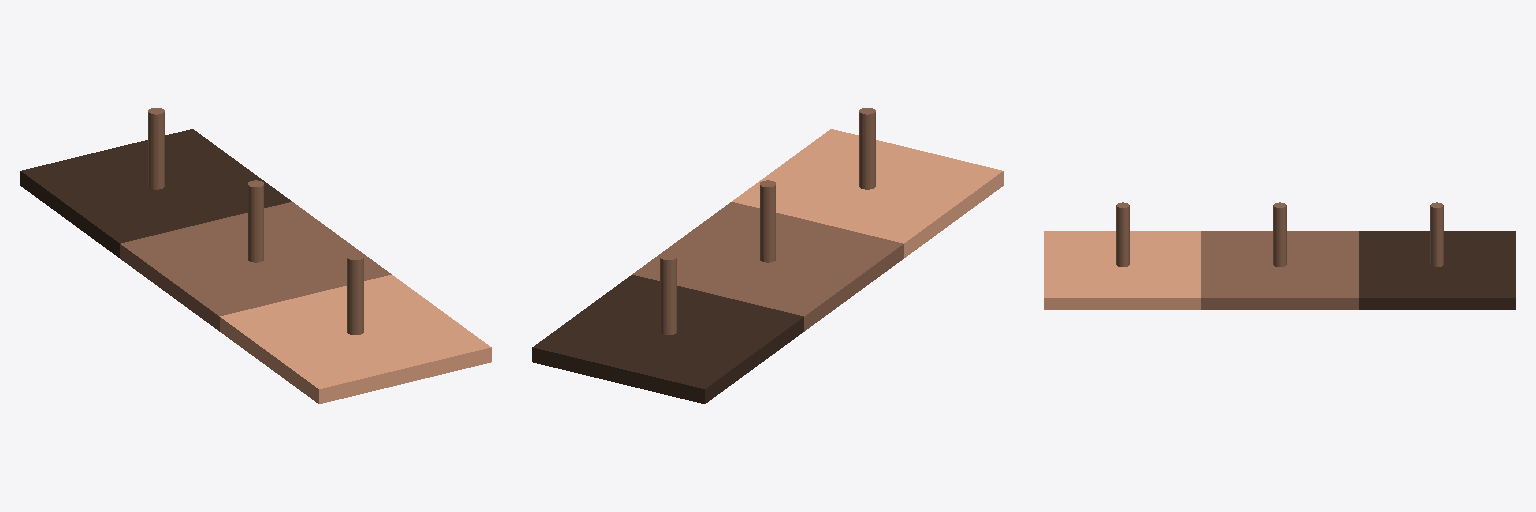
URDF robot description (stand.urdf):
<?xml version="0.0" ?>
<robot name="stand.urdf">
  <link name="baseLink">
    <contact>
      <lateral_friction value="0.5"/>
      <rolling_friction value="0.0001"/>
      <inertia_scaling value="3.0"/>
    </contact>
    <inertial>
      <origin rpy="0 0 0" xyz="0 0 0"/>
       <mass value=".1"/>
       <inertia ixx="1" ixy="0" ixz="0" iyy="1" iyz="0" izz="1"/>
    </inertial>

    <visual>
      <origin rpy="0 0 0" xyz="0 0 0.03"/>
      <geometry>
        <cylinder radius=".005" length="0.05"/>
      </geometry>
      <material name="brown">
        <color rgba="0.61176471, 0.45882353, 0.37254902 1"/>
      </material>
    </visual>
    <collision>
      <origin rpy="0 0 0" xyz="0 0 0.03"/>
      <geometry>
	 	    <cylinder radius=".005" length="0.05"/>
      </geometry>
    </collision>

    <visual>
      <origin rpy="0 0 0" xyz="0 0.12 0.03"/>
      <geometry>
        <cylinder radius=".005" length="0.05"/>
      </geometry>
      <material name="brown">
        <color rgba="0.61176471, 0.45882353, 0.37254902 1"/>
      </material>
    </visual>
    <collision>
      <origin rpy="0 0 0" xyz="0 0.12 0.03"/>
      <geometry>
        <cylinder radius=".005" length="0.05"/>
      </geometry>
    </collision>

    <visual>
      <origin rpy="0 0 0" xyz="0 -0.12 0.03"/>
      <geometry>
        <cylinder radius=".005" length="0.05"/>
      </geometry>
      <material name="brown">
        <color rgba="0.61176471 0.45882353 0.37254902 1"/>
      </material>
    </visual>
    <collision>
      <origin rpy="0 0 0" xyz="0 -0.12 0.03"/>
      <geometry>
        <cylinder radius=".005" length="0.05"/>
      </geometry>
    </collision>
    

    <visual>
      <origin rpy="0 0 0" xyz="0 0 0"/>
      <geometry>
        <box size=".12 .12 .01"/>
      </geometry>
      <material name="brown">
        <color rgba="0.61176471 0.45882353 0.37254902 1"/>
      </material>
    </visual>
    <collision>
      <origin rpy="0 0 0" xyz="0 0 0"/>
      <geometry>
        <box size=".12 .12 .01"/>
      </geometry>
    </collision>


  </link>

  <link name="base1">
    <inertial>
      <origin rpy="0 0 0" xyz="0 0 0"/>
       <mass value=".1"/>
       <inertia ixx="1" ixy="0" ixz="0" iyy="1" iyz="0" izz="1"/>
    </inertial>
    <visual>
      <origin rpy="0 0 0" xyz="0 -0.12 0"/>
      <geometry>
        <box size=".12 .12 .01"/>
      </geometry>
      <material name="lightbrown">
        <color rgba="0.91764706 0.68823529 0.55882353 1"/>
      </material>
    </visual>
    <collision>
      <origin rpy="0 0 0" xyz="0 -0.12 0"/>
      <geometry>
        <box size=".12 .12 .01"/>
      </geometry>
    </collision>
  </link>
  <joint name="baseLink-base1" type="fixed">
    <origin xyz="0 0 0" rpy="0 0 0"/>
    <parent link="baseLink"/>
    <child link="base1"/>
  </joint>

  <link name="base2">
    <inertial>
      <origin rpy="0 0 0" xyz="0 0 0"/>
       <mass value=".1"/>
       <inertia ixx="1" ixy="0" ixz="0" iyy="1" iyz="0" izz="1"/>
    </inertial>
    <visual>
      <origin rpy="0 0 0" xyz="0 0.12 0"/>
      <geometry>
        <box size=".12 .12 .01"/>
      </geometry>
      <material name="darkbrown">
        <color rgba="0.30588235 0.22941176 0.18627451 1"/>
      </material>
    </visual>
    <collision>
      <origin rpy="0 0 0" xyz="0 0.12 0"/>
      <geometry>
        <box size=".12 .12 .01"/>
      </geometry>
    </collision>
  </link>
  <joint name="baseLink-base2" type="fixed">
    <origin xyz="0 0 0" rpy="0 0 0"/>
    <parent link="baseLink"/>
    <child link="base2"/>
  </joint>

</robot>

--- What the picture shows (computed from the rendered views, not written in the file) ---
Views: 3 orthographic renders of the robot side by side, from view 1: azimuth 30°, elevation 25°; view 2: azimuth 150°, elevation 25°; view 3: azimuth 270°, elevation 25°.
Robot: stand.urdf — 3 links, 2 joints (2 fixed); root link baseLink; default pose: every joint at zero.
Visible links, largest first — view 1: baseLink, base1, base2; view 2: baseLink, base2, base1; view 3: baseLink, base1, base2.
Boxes of the visible links, left/top/right/bottom form: baseLink: left=120, top=108, right=391, bottom=334; base1: left=220, top=275, right=491, bottom=403; base2: left=20, top=129, right=291, bottom=257; baseLink: left=632, top=108, right=903, bottom=334; base2: left=532, top=275, right=803, bottom=403; base1: left=732, top=129, right=1003, bottom=257; baseLink: left=1116, top=202, right=1443, bottom=309; base1: left=1044, top=231, right=1200, bottom=309; base2: left=1359, top=231, right=1515, bottom=309.
Bounding box of the posed robot: 0.12 × 0.36 × 0.06 m (x, y, z).
Geometry: primitives only (box / cylinder / sphere), no mesh files.